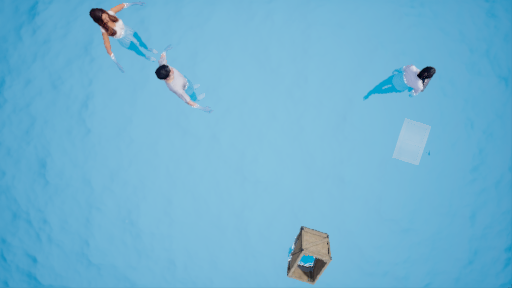person: (85, 5, 166, 68), (154, 54, 216, 120), (365, 59, 441, 109)
